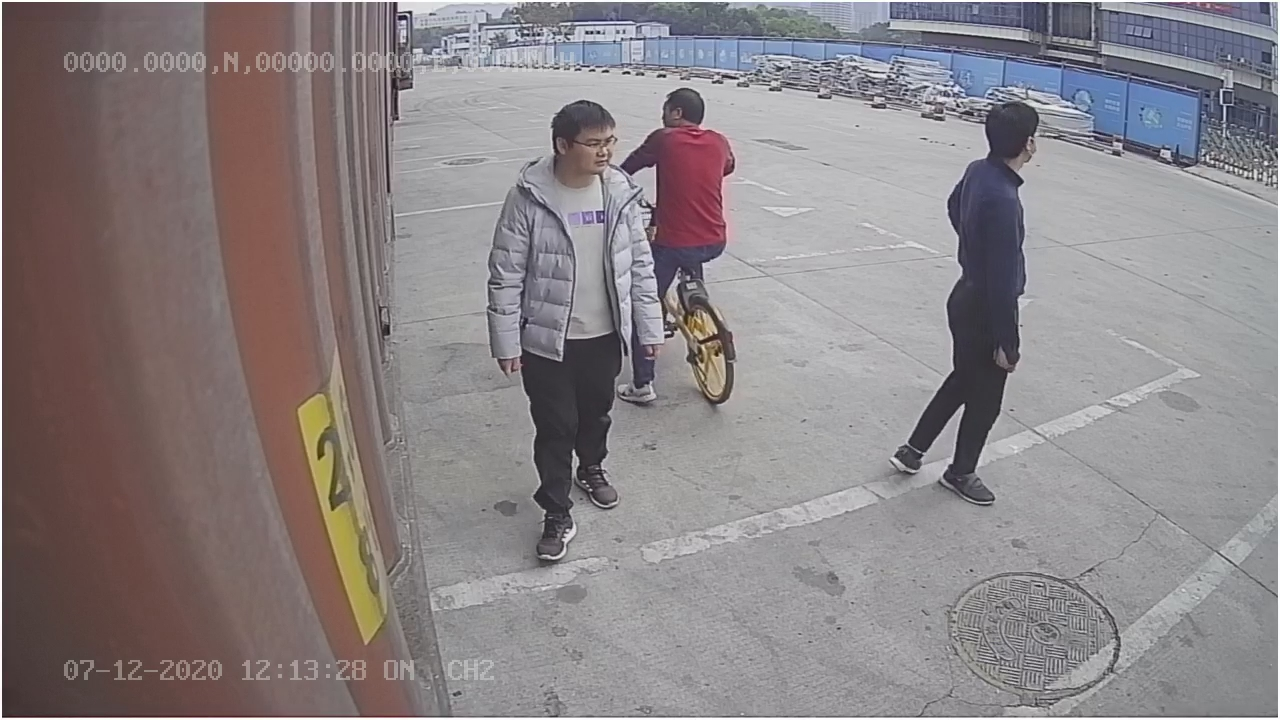person: (884, 99, 1041, 504)
